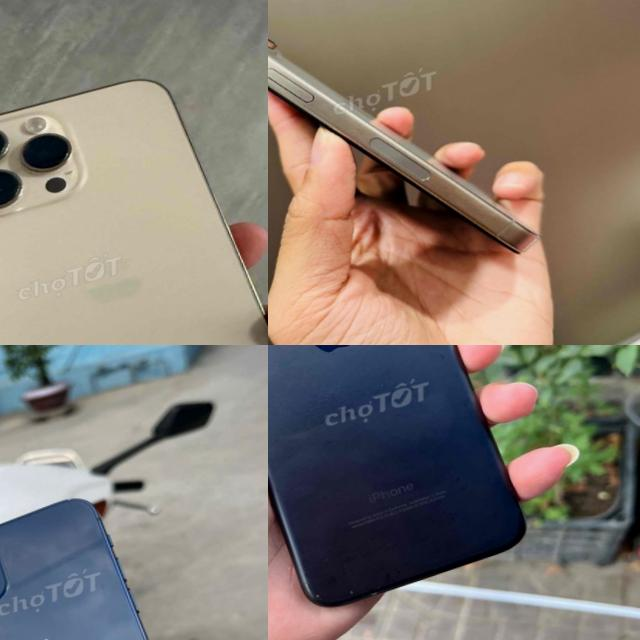gen_12_13: (0, 468, 254, 640)
gen_14: (0, 43, 268, 345)
gen_15: (268, 0, 561, 335)
gen_7_8: (268, 345, 546, 625)
scratch: (307, 575, 384, 613), (428, 345, 449, 362)
